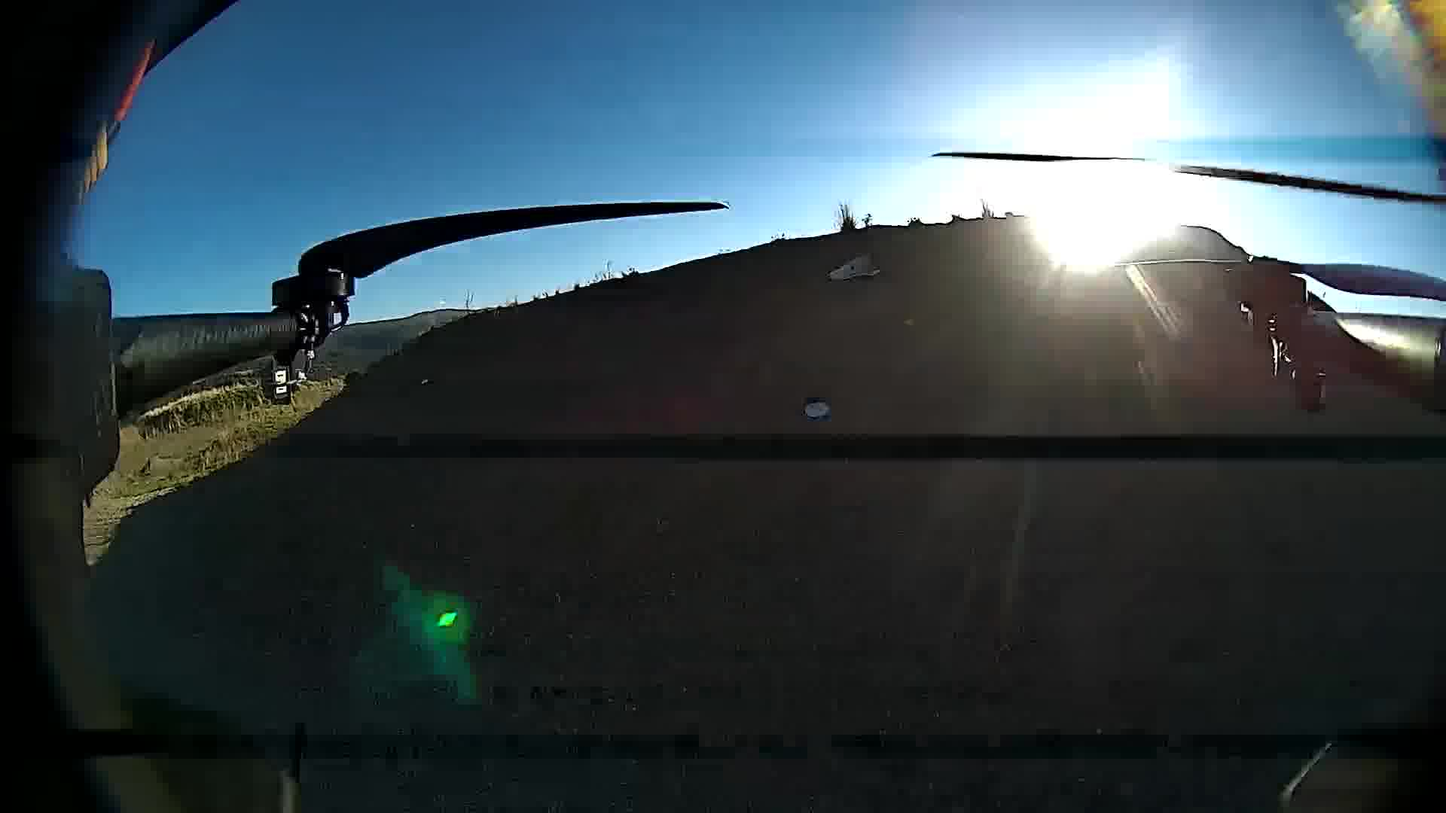Target: (804, 399, 830, 420)
